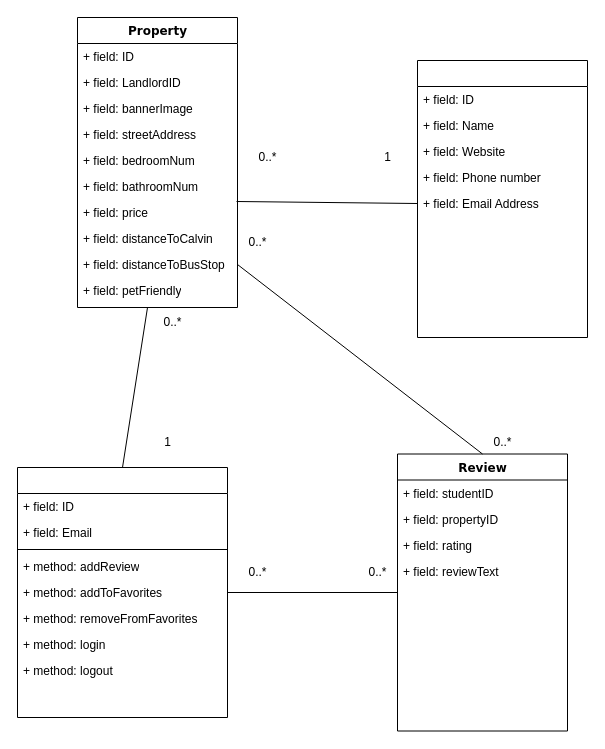
Some shapes in this 605 by 749 pixel diagram are drawn without their labels. Each missing label, with the box of its shape:
Landlord: (416, 60, 588, 338)
Student: (16, 466, 228, 718)
